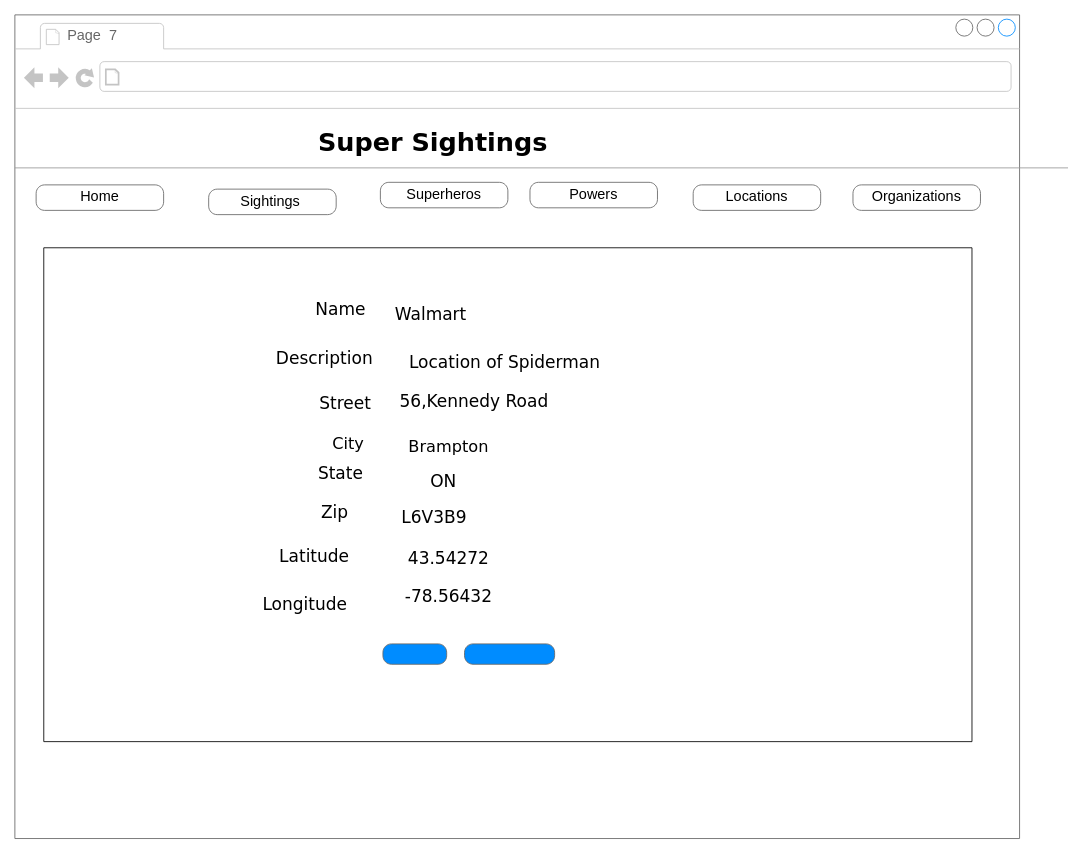
Image size: 1083x853. Some labels were removed from this diagram. The centre of each missing label's shape, as x and y in pixels:
Delete: the point at 509,653
Edit: the point at 414,653
https://localhost:8080/detailLocation?id=1: the point at 266,76
